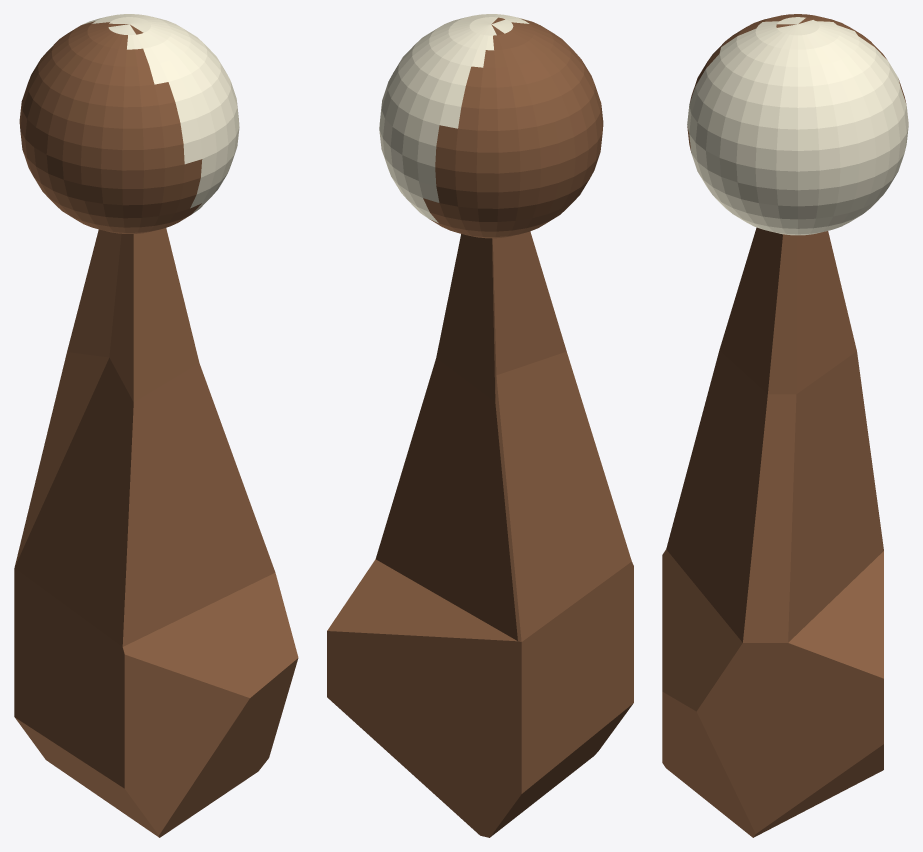
File: roca1.glb
3 renders of one model, left to right at view 1: azimuth 30°, elevation 25°; view 2: azimuth 150°, elevation 25°; view 3: azimuth 270°, elevation 25°, orthographic.
Visible parts, largest first — view 1: Cube; view 2: Cube; view 3: Cube.
Part boxes in pixels (x1,y1,x2,y2): Cube: [14, 14, 298, 837]; Cube: [327, 14, 633, 837]; Cube: [662, 14, 908, 837].
Bounding box in the file's own units: 2.24 × 7.58 × 2.23.
